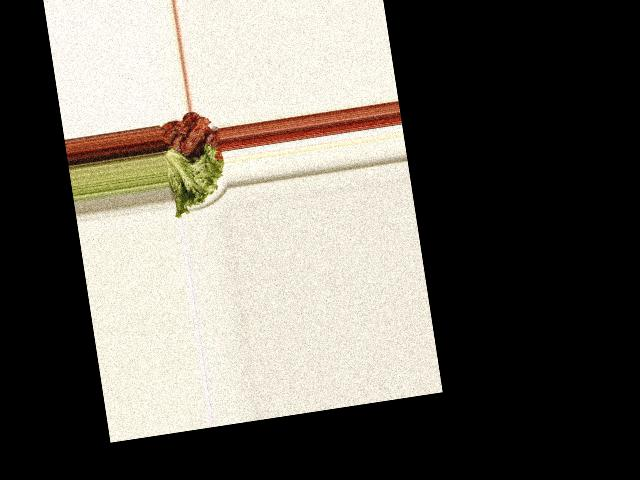lettuce: (162, 142, 228, 215)
